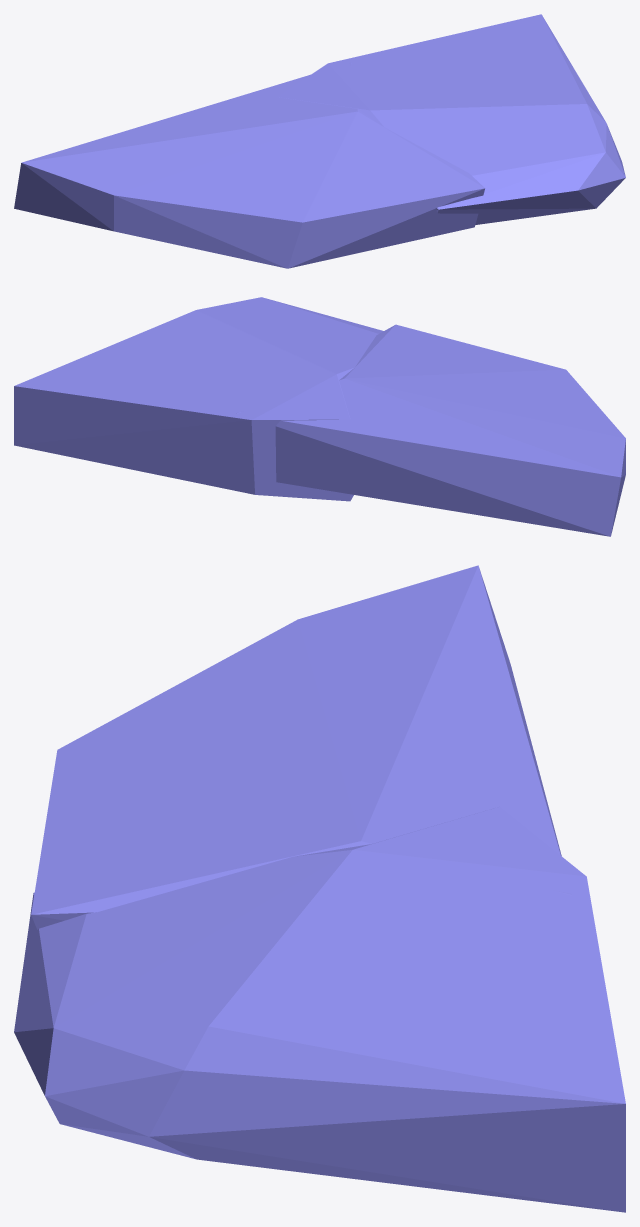
The model's file is Plate_09_Collider_01.FBX.
The picture shows the model from 3 angles, top to bottom: view 1: azimuth 30°, elevation 25°; view 2: azimuth 150°, elevation 25°; view 3: azimuth 270°, elevation 25°; orthographic projection. The views are drawn at different scales.
Visible parts, largest first — view 1: COLLIDER2, COLLIDER1; view 2: COLLIDER2, COLLIDER1; view 3: COLLIDER1, COLLIDER2.
Boxes of the visible parts, <box> form: COLLIDER2: <box>14,62,484,268</box>; COLLIDER1: <box>277,14,625,224</box>; COLLIDER2: <box>236,324,625,536</box>; COLLIDER1: <box>14,297,383,501</box>; COLLIDER1: <box>14,806,625,1212</box>; COLLIDER2: <box>31,565,571,929</box>.
Bounding box in the file's own units: 250 × 35.63 × 128.
